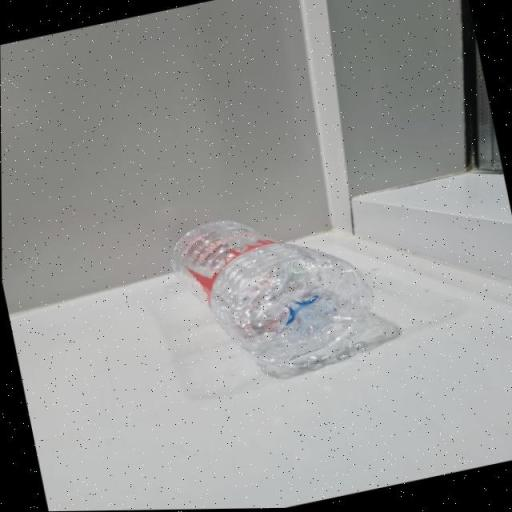plastic: (143, 188, 384, 390)
